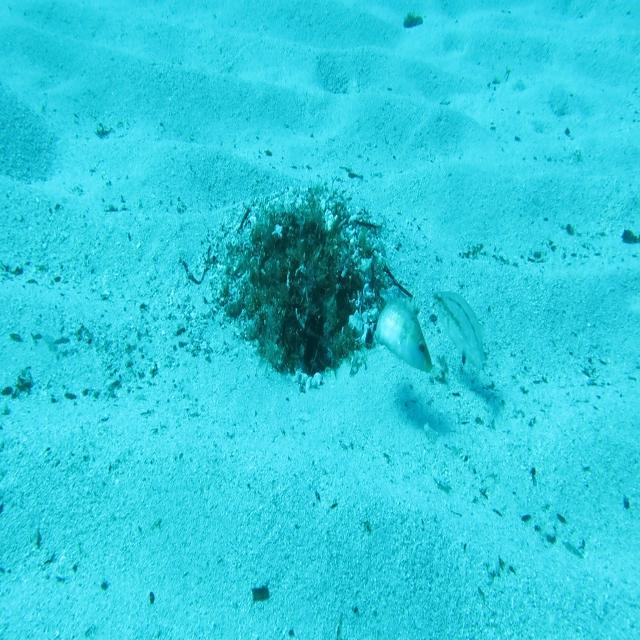DAN_CIRC: (374, 287, 434, 377)
core_nest: (277, 222, 325, 275)
female: (432, 284, 489, 389)
nest: (194, 168, 416, 422)
vegetation: (252, 583, 271, 605), (621, 226, 640, 246), (400, 14, 426, 28)
